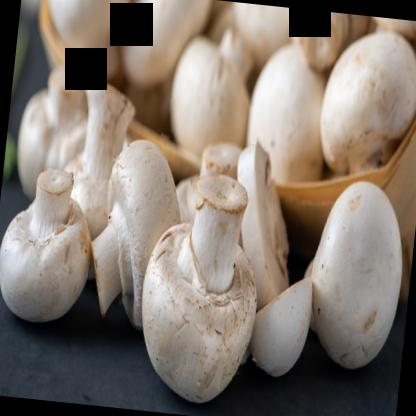mushroom: (131, 167, 270, 408), (293, 175, 409, 380), (82, 136, 184, 336), (0, 161, 103, 329)
